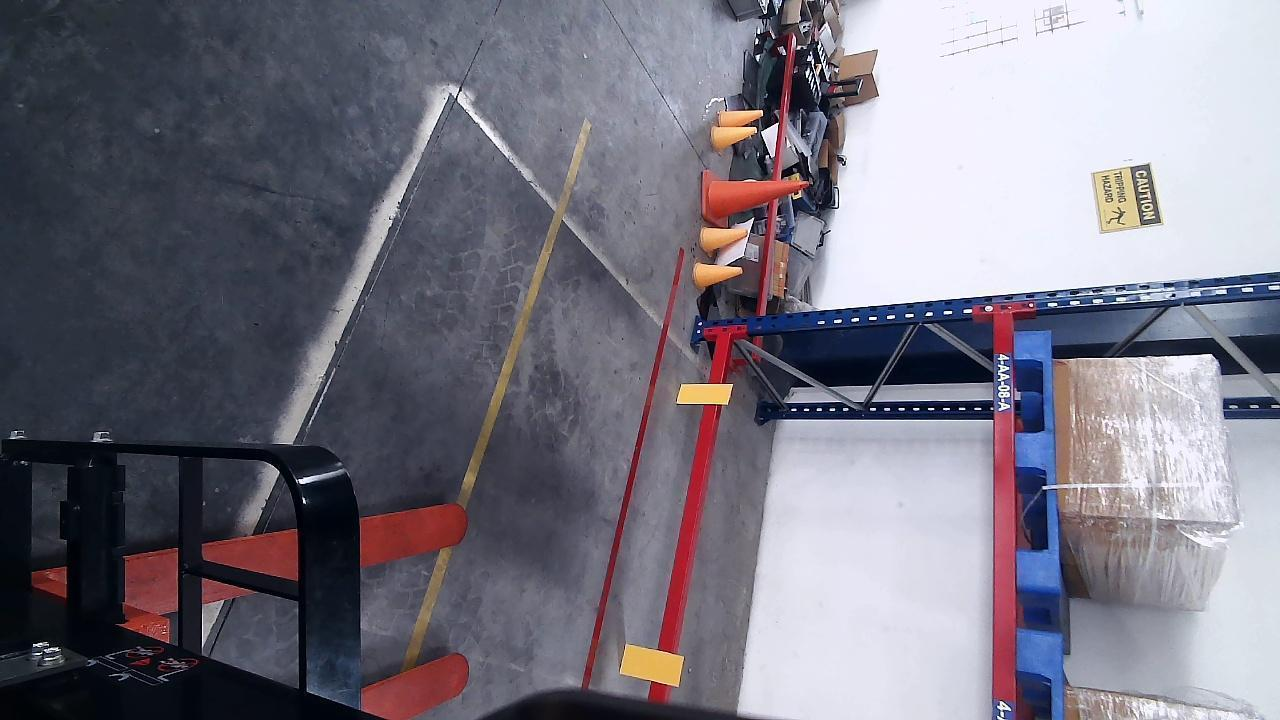red_line: (578, 248, 689, 689)
yellow_line: (397, 116, 597, 671)
